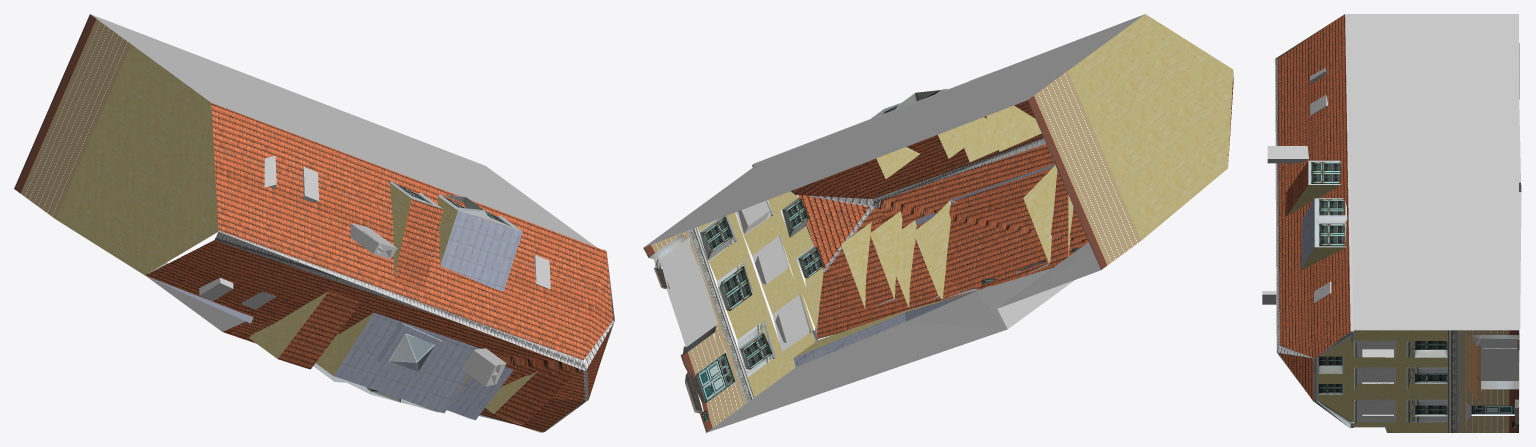
File: Pikk-47-origo.obj
The picture shows the model from 3 angles, left to right: view 1: azimuth 30°, elevation 25°; view 2: azimuth 150°, elevation 25°; view 3: azimuth 270°, elevation 25°; orthographic projection. The views are drawn at different scales.
Visible parts, largest first — view 1: Pikk_47; view 2: Pikk_47; view 3: Pikk_47.
Boxes of the visible parts, bbox=[...] form: Pikk_47: bbox=[14, 14, 614, 432]; Pikk_47: bbox=[643, 14, 1233, 432]; Pikk_47: bbox=[1262, 14, 1521, 432].
Bounding box in the file's own units: 27.19 × 23 × 17.8.
